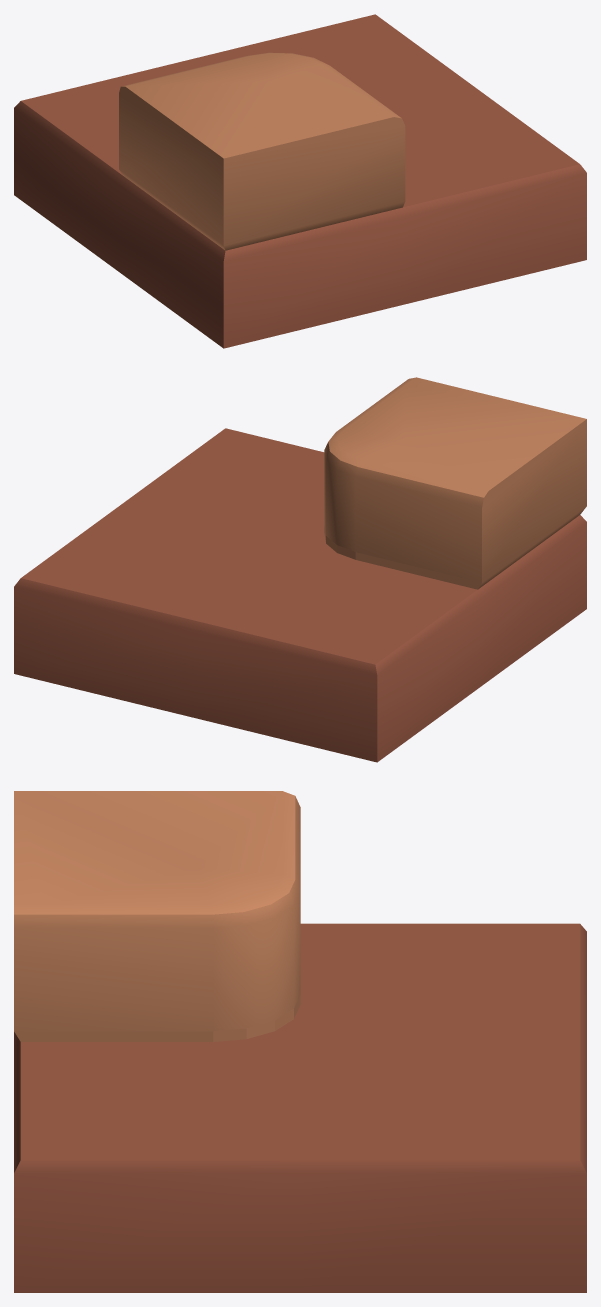
File: square_rock_waterOuterCorner_empty.glb
The picture shows the model from 3 angles, top to bottom: view 1: azimuth 30°, elevation 25°; view 2: azimuth 150°, elevation 25°; view 3: azimuth 270°, elevation 25°; orthographic projection. The views are drawn at different scales.
Visible parts, largest first — view 1: square_rock_waterOuterCorner_empty; view 2: square_rock_waterOuterCorner_empty; view 3: square_rock_waterOuterCorner_empty.
Boxes of the visible parts, bbox=[...] form: square_rock_waterOuterCorner_empty: bbox=[14, 14, 586, 348]; square_rock_waterOuterCorner_empty: bbox=[14, 377, 586, 762]; square_rock_waterOuterCorner_empty: bbox=[14, 791, 586, 1292].
Bounding box in the file's own units: 3.82 × 1.91 × 3.82.
